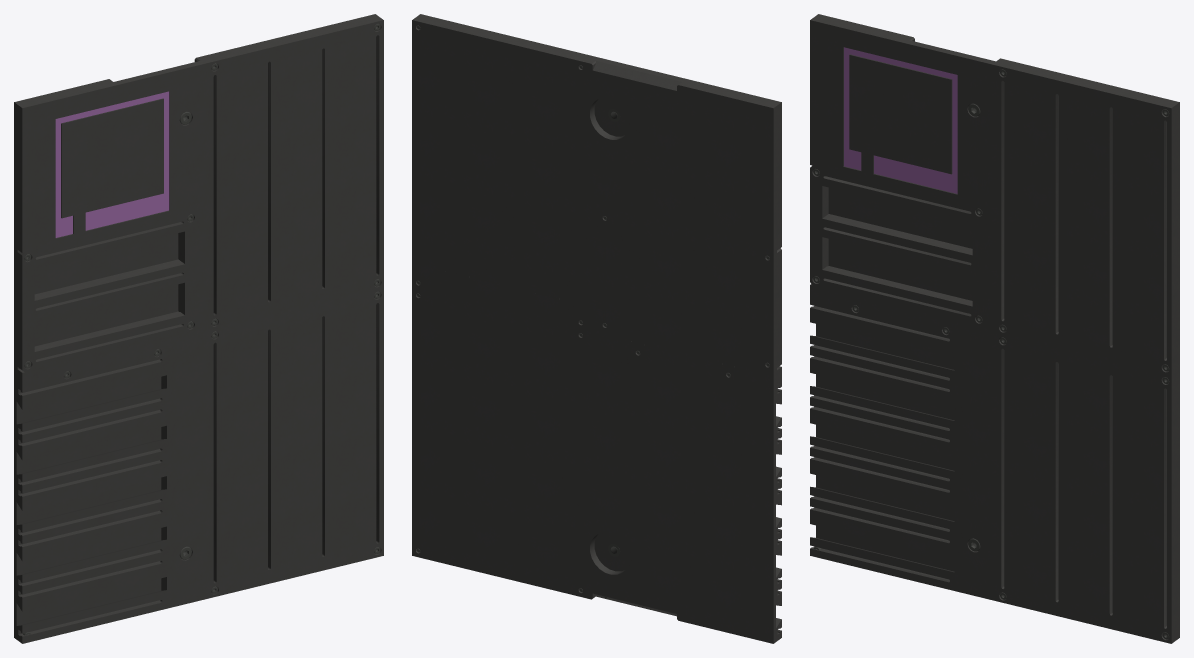
The picture shows the model from 3 angles, left to right: view 1: azimuth 30°, elevation 25°; view 2: azimuth 150°, elevation 25°; view 3: azimuth 330°, elevation 25°; orthographic projection.
Parts seen in each view (by area): view 1: COMPONENT MOUNTING PLATE #2.002; view 2: COMPONENT MOUNTING PLATE #2.002; view 3: COMPONENT MOUNTING PLATE #2.002.
Part boxes in pixels (left/top/right/bottom): COMPONENT MOUNTING PLATE #2.002: left=14, top=14, right=383, bottom=643; COMPONENT MOUNTING PLATE #2.002: left=412, top=14, right=781, bottom=643; COMPONENT MOUNTING PLATE #2.002: left=810, top=14, right=1179, bottom=643.
Size of the model in its own units: 0.3 by 0.425 by 0.012.
3 materials, 1 textured.
